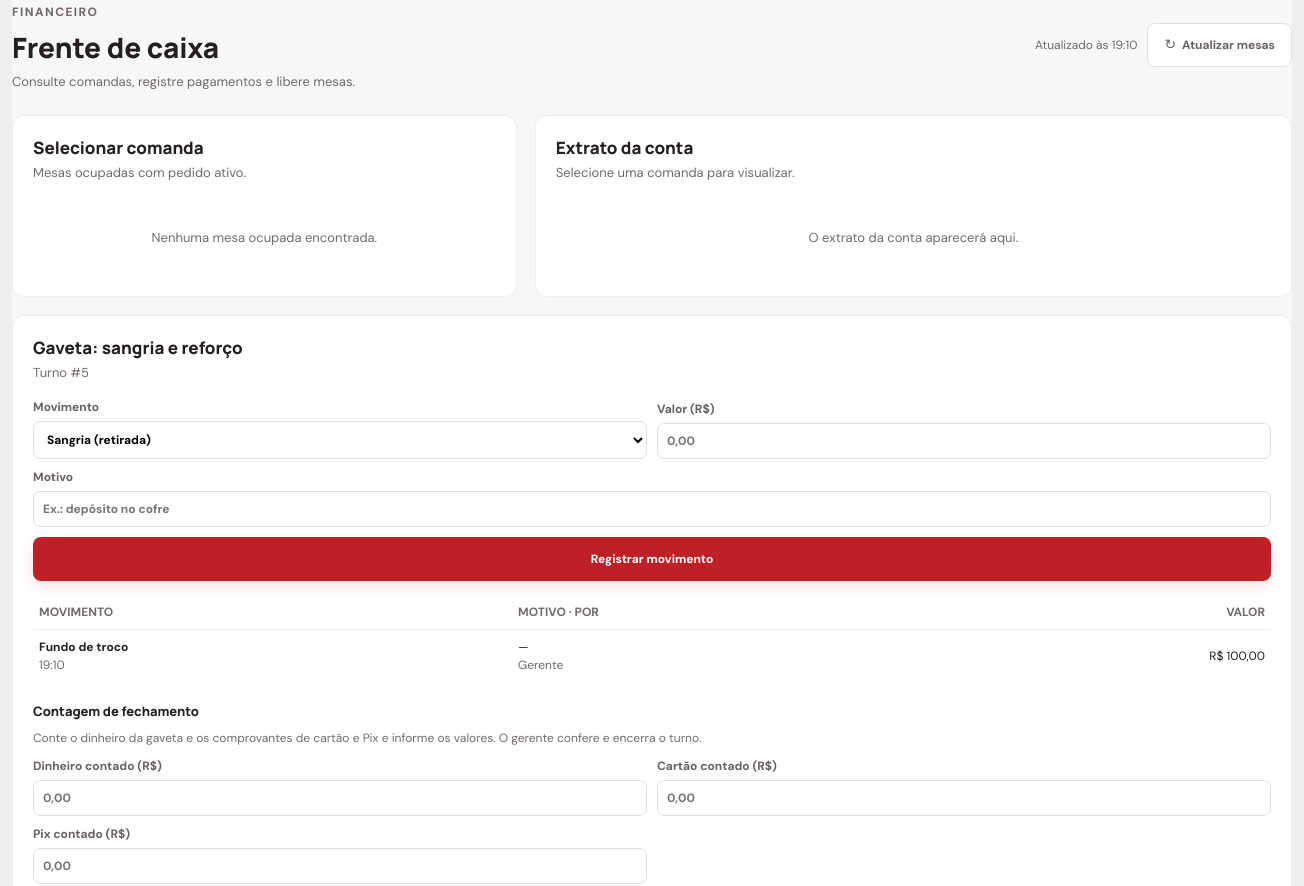
it: Sangria do caixa com limite e autorização do gerente (RN-18) › sangria até o limite não envia approver; gerente nunca vê o bloco
Expected: the text "Fundo de troco" is shown, [39,639,128,655]
Type "150" into the number field labelled "Valor (R$)" at point(964, 441), box [657,423,1271,459]
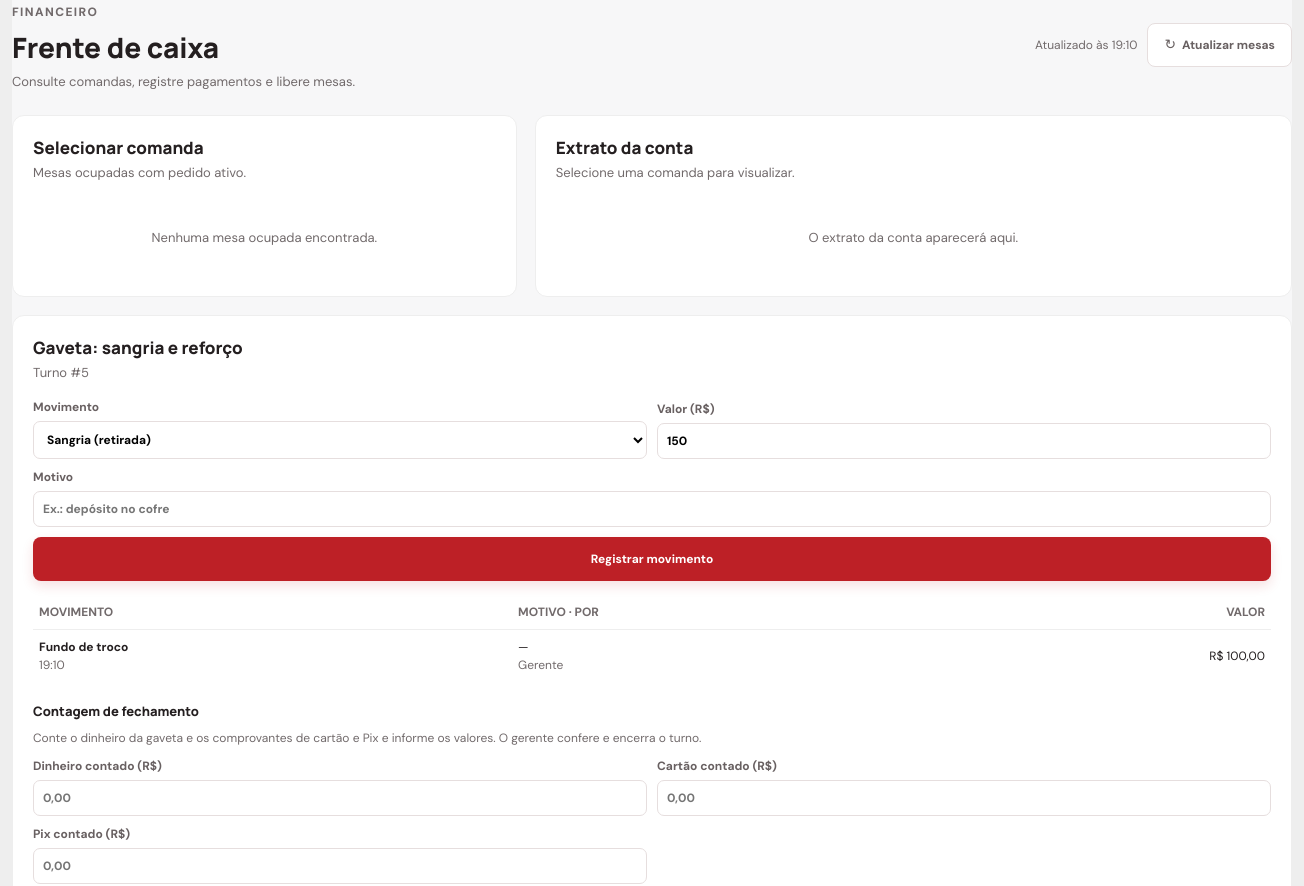
Type "Cofre" into the field labelled "Motivo" at point(652, 509), box [33,491,1271,527]
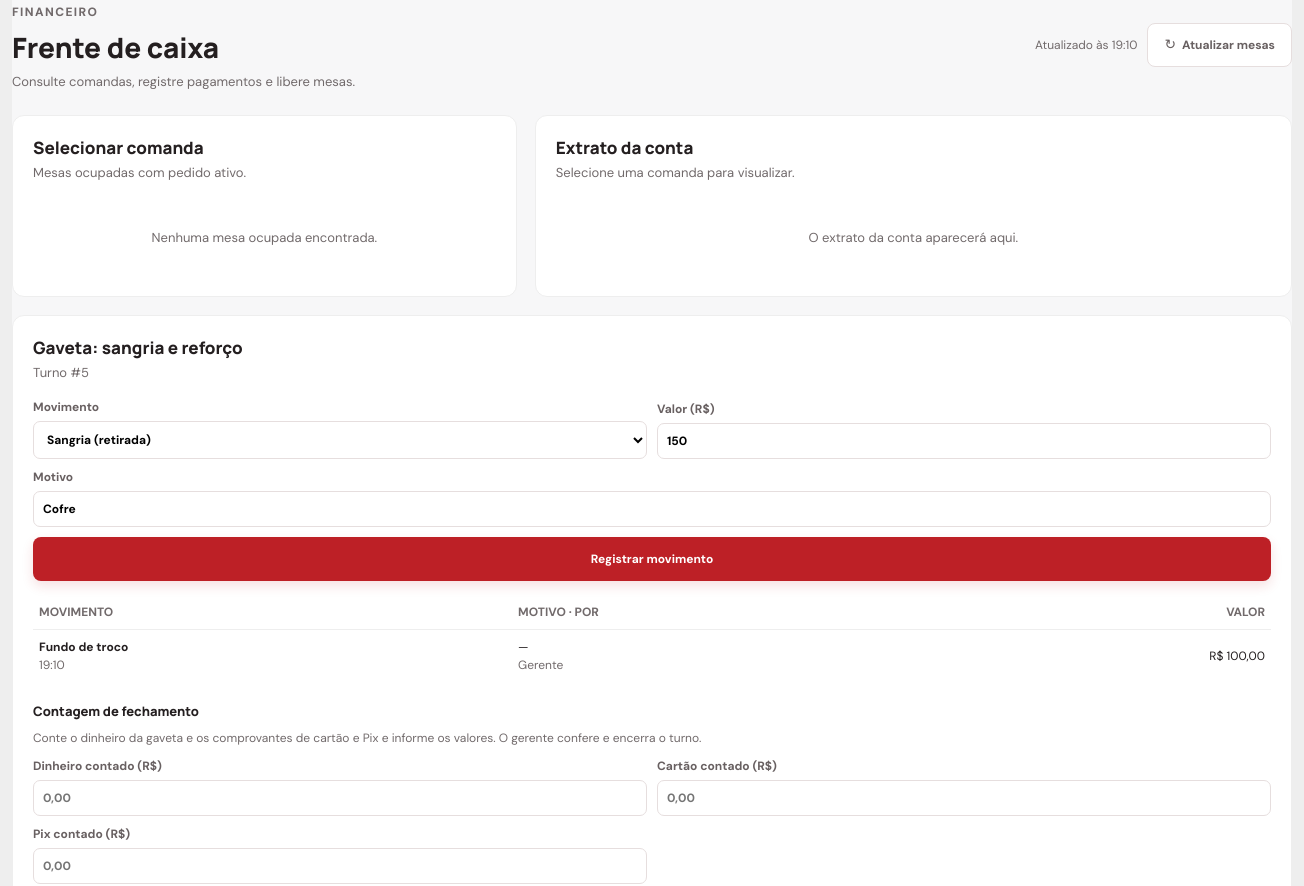
Click the button "Registrar movimento" at point(652, 559), box [33,537,1271,581]
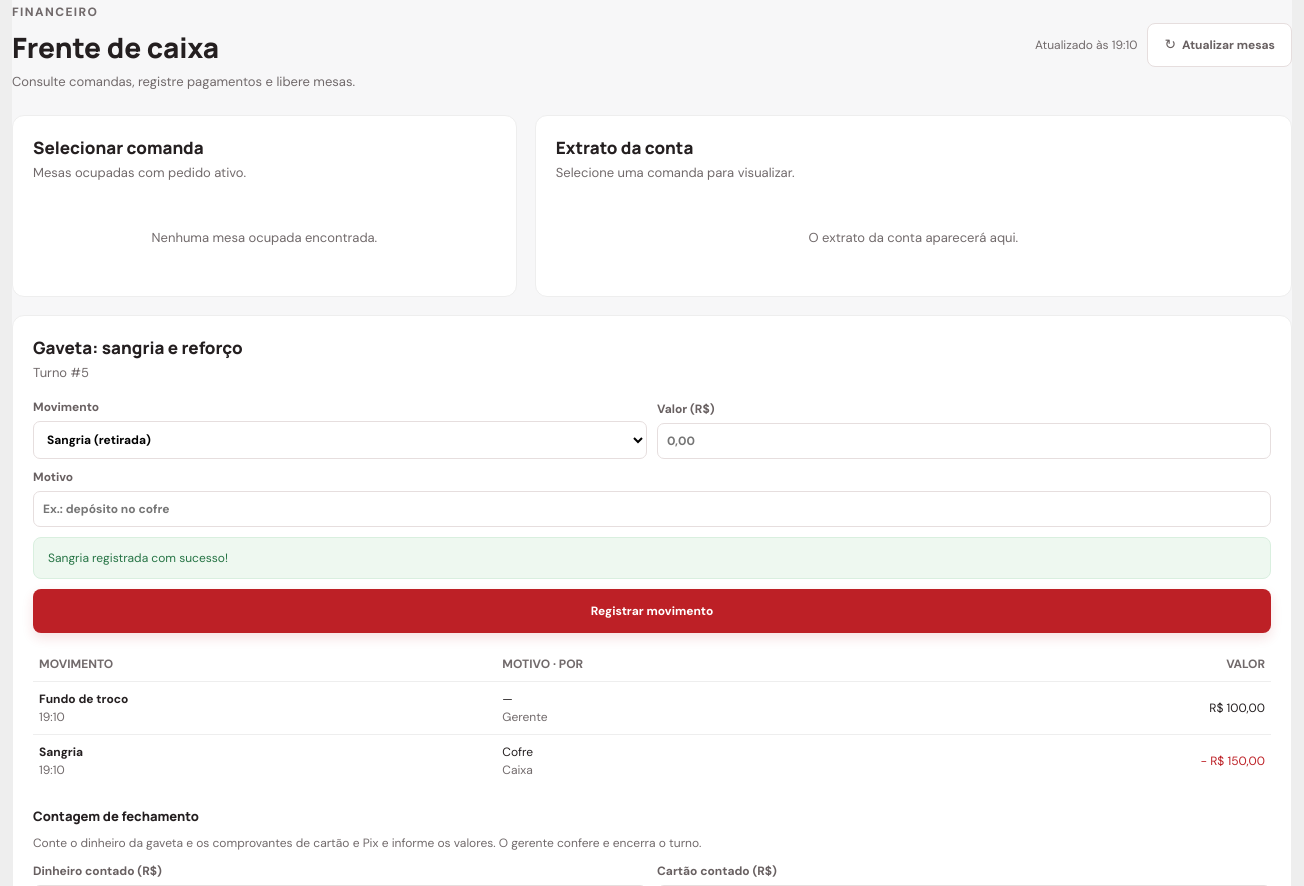
Expected: the text "Sangria registrada com sucesso!" is shown, [33,537,1271,579]
